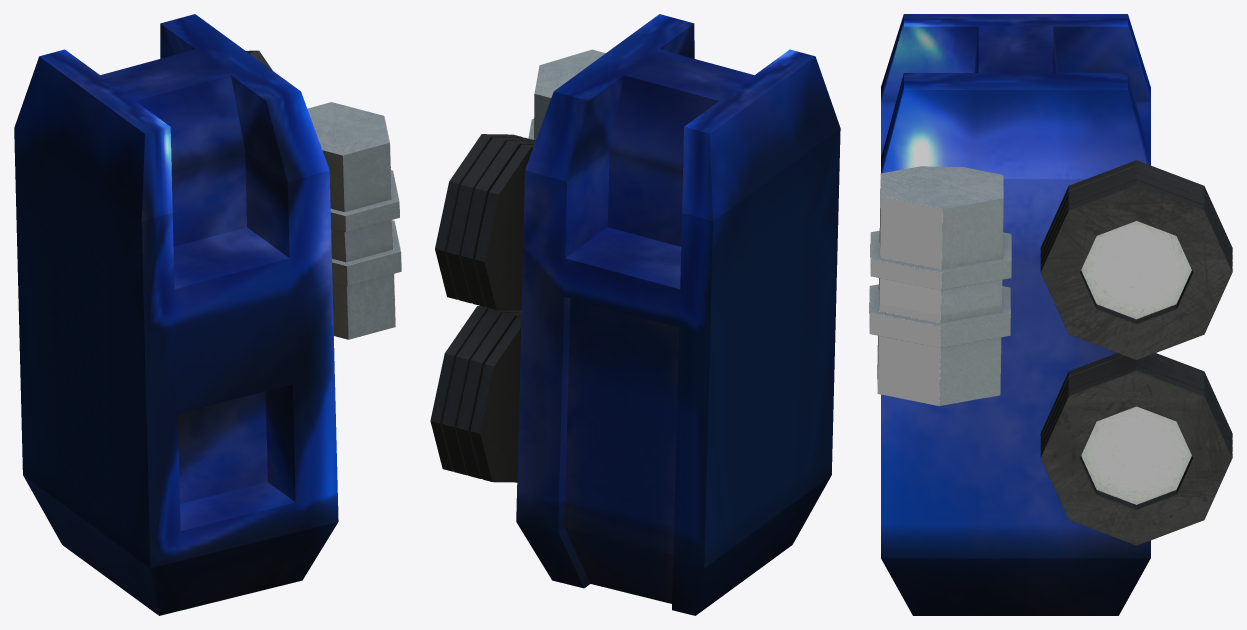
Rendered from R_LEG2.obj.
3 renders of one model, left to right at view 1: azimuth 30°, elevation 25°; view 2: azimuth 150°, elevation 25°; view 3: azimuth 270°, elevation 25°, orthographic. The views are drawn at different scales.
Visible parts, largest first — view 1: group5 group pasted__pCube16, group5 group pasted__pCylinder8; view 2: group5 group pasted__pCube16, group5 group pasted__pCylinder12, pasted__pCylinder11 group5 group, group5 group pasted__pCylinder8; view 3: group5 group pasted__pCube16, group5 group pasted__pCylinder8, group5 group pasted__pCylinder12, pasted__pCylinder11 group5 group.
Boxes of the visible parts, bbox=[...] form: group5 group pasted__pCube16: bbox=[14, 14, 338, 615]; group5 group pasted__pCylinder8: bbox=[307, 102, 401, 339]; group5 group pasted__pCube16: bbox=[516, 14, 840, 615]; group5 group pasted__pCylinder12: bbox=[435, 134, 535, 310]; pasted__pCylinder11 group5 group: bbox=[430, 306, 521, 482]; group5 group pasted__pCylinder8: bbox=[528, 49, 605, 140]; group5 group pasted__pCube16: bbox=[881, 14, 1150, 615]; group5 group pasted__pCylinder8: bbox=[869, 166, 1011, 406]; group5 group pasted__pCylinder12: bbox=[1040, 160, 1232, 360]; pasted__pCylinder11 group5 group: bbox=[1040, 353, 1232, 545].
Size of the model in its own units: 1.54 by 2.59 by 1.63.
Materials: 1 (1 with a texture image).
